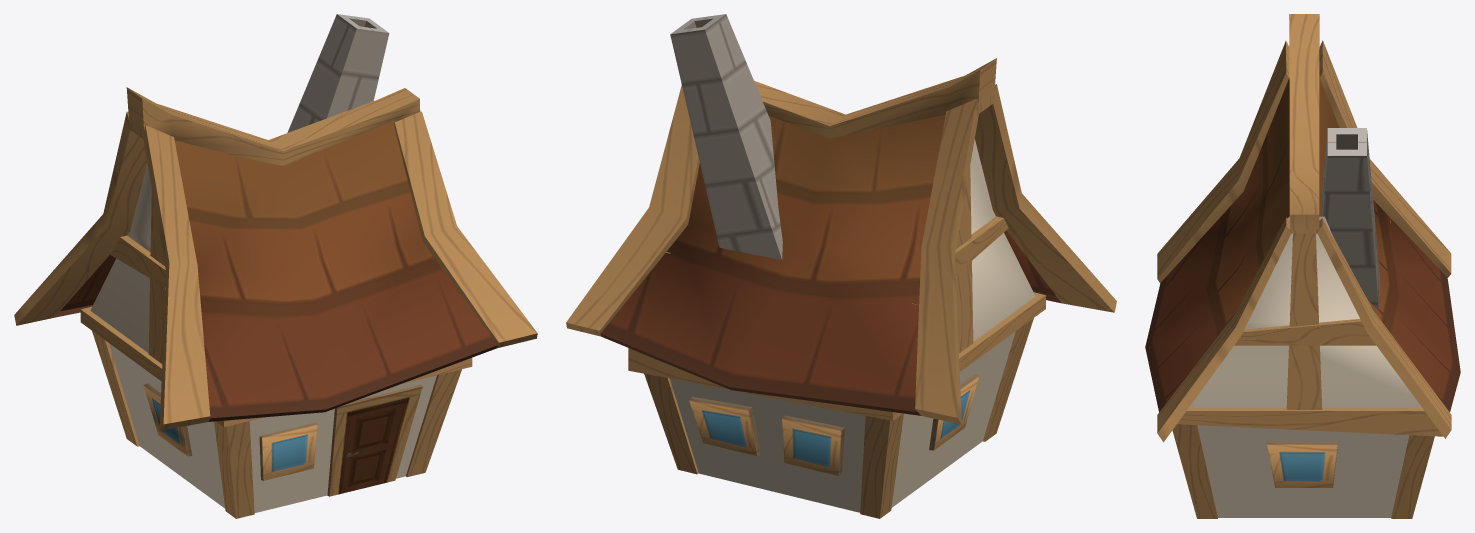
Rendered from building_house_lv1.FBX.
The picture shows the model from 3 angles, left to right: view 1: azimuth 30°, elevation 25°; view 2: azimuth 150°, elevation 25°; view 3: azimuth 270°, elevation 25°; orthographic projection. The views are drawn at different scales.
Parts seen in each view (by area): view 1: building_house_main_lv1, building_house_lv1; view 2: building_house_main_lv1, building_house_lv1; view 3: building_house_main_lv1, building_house_lv1.
Boxes of the visible parts, x1,y1,x2,y2 form: building_house_main_lv1: (55,119,497,512); building_house_lv1: (14,14,537,518); building_house_main_lv1: (600,114,1061,512); building_house_lv1: (566,14,1116,518); building_house_main_lv1: (1145,75,1460,517); building_house_lv1: (1157,14,1451,518).
Size of the model in its own units: 253 by 255 by 186.
